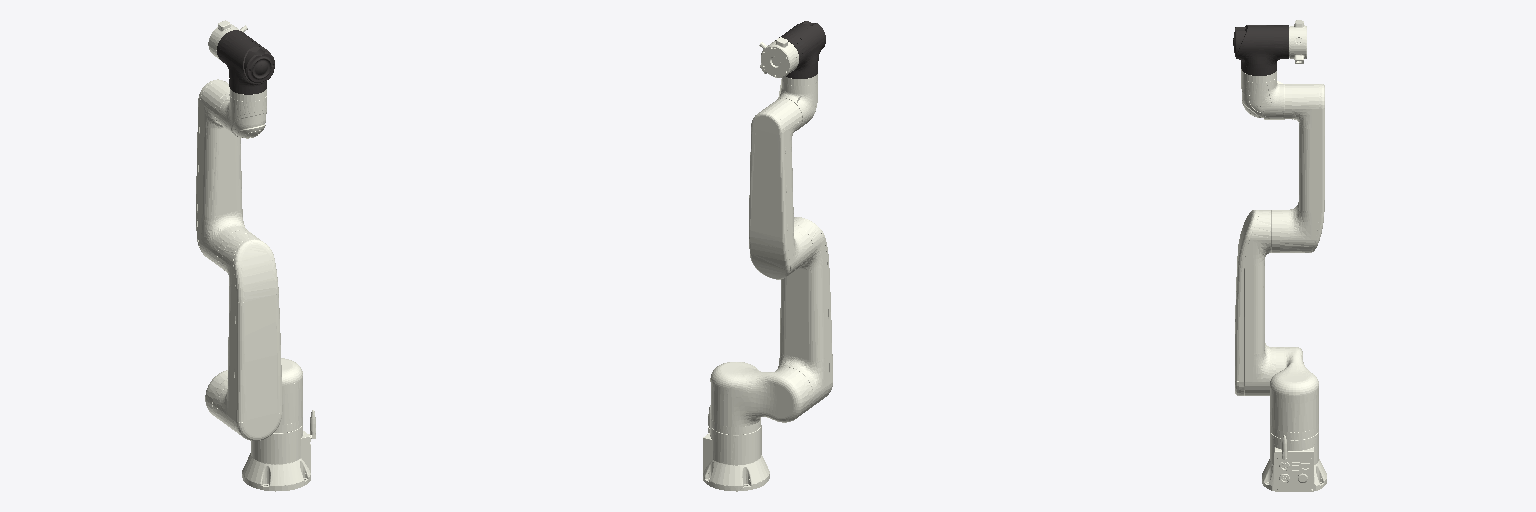
URDF robot description (rm_eco65):
<?xml version="1.0" encoding="utf-8"?>
<!-- This URDF was automatically created by SolidWorks to URDF Exporter! Originally created by Stephen Brawner (brawner@gmail.com) 
     Commit Version: 1.6.0-1-g15f4949  Build Version: 1.6.7594.29634
     For more information, please see http://wiki.ros.org/sw_urdf_exporter -->
<robot
  name="rm_eco65">
  <link
    name="baselink">
    <inertial>
      <origin
        xyz="0.00059982 -9.2932E-05 0.043301"
        rpy="0 0 0" />
      <mass
        value="0.61127" />
      <inertia
        ixx="0.00080212"
        ixy="3.0281E-06"
        ixz="-2.8747E-05"
        iyy="0.00080502"
        iyz="1.9749E-06"
        izz="0.00066167" />
    </inertial>
    <visual>
      <origin
        xyz="0 0 0"
        rpy="0 0 0" />
      <geometry>
        <mesh
          filename="package://rm_description/meshes/ECO65/baselink.STL" />
      </geometry>
      <material
        name="">
        <color
          rgba="1 1 0.9451 1" />
      </material>
    </visual>
    <collision>
      <origin
        xyz="0 0 0"
        rpy="0 0 0" />
      <geometry>
        <mesh
          filename="package://rm_description/meshes/ECO65/baselink.STL" />
      </geometry>
    </collision>
  </link>
  <link
    name="Link1">
    <inertial>
      <origin
        xyz="-0.022858 -2.0784E-06 -0.013658"
        rpy="0 0 0" />
      <mass
        value="0.74247" />
      <inertia
        ixx="0.00081398"
        ixy="-1.9024E-05"
        ixz="0.00022746"
        iyy="0.001848"
        iyz="2.0444E-06"
        izz="0.0015286" />
    </inertial>
    <visual>
      <origin
        xyz="0 0 0"
        rpy="0 0 0" />
      <geometry>
        <mesh
          filename="package://rm_description/meshes/ECO65/Link1.STL" />
      </geometry>
      <material
        name="">
        <color
          rgba="1 1 0.9451 1" />
      </material>
    </visual>
    <collision>
      <origin
        xyz="0 0 0"
        rpy="0 0 0" />
      <geometry>
        <mesh
          filename="package://rm_description/meshes/ECO65/Link1.STL" />
      </geometry>
    </collision>
  </link>
  <joint
    name="joint1"
    type="revolute">
    <origin
      xyz="0 0 0.1625"
      rpy="0 0 0" />
    <parent
      link="baselink" />
    <child
      link="Link1" />
    <axis
      xyz="0 0 1" />
    <limit
      lower="-3.1923"
      upper="3.1923"
      effort="100"
      velocity="1" />
  </joint>
  <link
    name="Link2">
    <inertial>
      <origin
        xyz="-1.6049E-06 0.10336 0.067332"
        rpy="0 0 0" />
      <mass
        value="1.3502" />
      <inertia
        ixx="0.012821"
        ixy="-7.2979E-08"
        ixz="1.1499E-08"
        iyy="0.0011237"
        iyz="-0.00033755"
        izz="0.012933" />
    </inertial>
    <visual>
      <origin
        xyz="0 0 0"
        rpy="0 0 0" />
      <geometry>
        <mesh
          filename="package://rm_description/meshes/ECO65/Link2.STL" />
      </geometry>
      <material
        name="">
        <color
          rgba="1 1 0.9451 1" />
      </material>
    </visual>
    <collision>
      <origin
        xyz="0 0 0"
        rpy="0 0 0" />
      <geometry>
        <mesh
          filename="package://rm_description/meshes/ECO65/Link2.STL" />
      </geometry>
    </collision>
  </link>
  <joint
    name="joint2"
    type="revolute">
    <origin
      xyz="-0.086 0 0"
      rpy="1.5708 0 0" />
    <parent
      link="Link1" />
    <child
      link="Link2" />
    <axis
      xyz="0 0 -1" />
    <limit
      lower="-2.61666"
      upper="2.442"
      effort="100"
      velocity="1" />
  </joint>
  <link
    name="Link3">
    <inertial>
      <origin
        xyz="0.10374 7.0495E-07 0.018599"
        rpy="0 0 0" />
      <mass
        value="1.0422" />
      <inertia
        ixx="0.00084115"
        ixy="-2.2514E-08"
        ixz="-0.00068613"
        iyy="0.0094046"
        iyz="-3.3287E-09"
        izz="0.0092482" />
    </inertial>
    <visual>
      <origin
        xyz="0 0 0"
        rpy="0 0 0" />
      <geometry>
        <mesh
          filename="package://rm_description/meshes/ECO65/Link3.STL" />
      </geometry>
      <material
        name="">
        <color
          rgba="1 1 0.9451 1" />
      </material>
    </visual>
    <collision>
      <origin
        xyz="0 0 0"
        rpy="0 0 0" />
      <geometry>
        <mesh
          filename="package://rm_description/meshes/ECO65/Link3.STL" />
      </geometry>
    </collision>
  </link>
  <joint
    name="joint3"
    type="revolute">
    <origin
      xyz="0 0.26 0"
      rpy="3.1416 0 1.5708" />
    <parent
      link="Link2" />
    <child
      link="Link3" />
    <axis
      xyz="0 0 1" />
    <limit
      lower="-2.61666"
      upper="2.61666"
      effort="100"
      velocity="1" />
  </joint>
  <link
    name="Link4">
    <inertial>
      <origin
        xyz="-0.0069819 -0.016328 0.0067416"
        rpy="0 0 0" />
      <mass
        value="0.27383" />
      <inertia
        ixx="0"
        ixy="0"
        ixz="0"
        iyy="0"
        iyz="0"
        izz="0" />
    </inertial>
    <visual>
      <origin
        xyz="0 0 0"
        rpy="0 0 0" />
      <geometry>
        <mesh
          filename="package://rm_description/meshes/ECO65/Link4.STL" />
      </geometry>
      <material
        name="">
        <color
          rgba="1 1 0.9451 1" />
      </material>
    </visual>
    <collision>
      <origin
        xyz="0 0 0"
        rpy="0 0 0" />
      <geometry>
        <mesh
          filename="package://rm_description/meshes/ECO65/Link4.STL" />
      </geometry>
    </collision>
  </link>
  <joint
    name="joint4"
    type="revolute">
    <origin
      xyz="0.24 0 -0.05888"
      rpy="0 0 1.5708" />
    <parent
      link="Link3" />
    <child
      link="Link4" />
    <axis
      xyz="0 0 1" />
    <limit
      lower="-2.61666"
      upper="2.61666"
      effort="100"
      velocity="1" />
  </joint>
  <link
    name="Link5">
    <inertial>
      <origin
        xyz="-0.00040425 0.0066328 -0.012475"
        rpy="0 0 0" />
      <mass
        value="0.27794" />
      <inertia
        ixx="0.00024751"
        ixy="-5.6849E-09"
        ixz="5.4838E-10"
        iyy="0.00017648"
        iyz="-2.8552E-05"
        izz="0.00019295" />
    </inertial>
    <visual>
      <origin
        xyz="0 0 0"
        rpy="0 0 0" />
      <geometry>
        <mesh
          filename="package://rm_description/meshes/ECO65/Link5.STL" />
      </geometry>
      <material
        name="">
        <color
          rgba="0.29804 0.28627 0.28235 1" />
      </material>
    </visual>
    <collision>
      <origin
        xyz="0 0 0"
        rpy="0 0 0" />
      <geometry>
        <mesh
          filename="package://rm_description/meshes/ECO65/Link5.STL" />
      </geometry>
    </collision>
  </link>
  <joint
    name="joint5"
    type="revolute">
    <origin
      xyz="0.00040486 -0.10983 0"
      rpy="1.5708 0 0" />
    <parent
      link="Link4" />
    <child
      link="Link5" />
    <axis
      xyz="0 0 1" />
    <limit
      lower="-2.96555"
      upper="2.96555"
      effort="100"
      velocity="1" />
  </joint>
  <link
    name="Link6">
    <inertial>
      <origin
        xyz="0.00095587 -0.0013555 -0.010297"
        rpy="0 0 0" />
      <mass
        value="0.033025" />
      <inertia
        ixx="1.2968E-05"
        ixy="-7.8692E-07"
        ixz="8.451E-08"
        iyy="1.1583E-05"
        iyz="-1.2002E-07"
        izz="2.0405E-05" />
    </inertial>
    <visual>
      <origin
        xyz="0 0 0"
        rpy="0 0 0" />
      <geometry>
        <mesh
          filename="package://rm_description/meshes/ECO65/Link6.STL" />
      </geometry>
      <material
        name="">
        <color
          rgba="1 1 0.9451 1" />
      </material>
    </visual>
    <collision>
      <origin
        xyz="0 0 0"
        rpy="0 0 0" />
      <geometry>
        <mesh
          filename="package://rm_description/meshes/ECO65/Link6.STL" />
      </geometry>
    </collision>
  </link>
  <joint
    name="joint6"
    type="revolute">
    <origin
      xyz="0 0.0795 0"
      rpy="-1.5708 0 0" />
    <parent
      link="Link5" />
    <child
      link="Link6" />
    <axis
      xyz="0 0 1" />
    <limit
      lower="-2.96555"
      upper="2.96555"
      effort="100"
      velocity="1" />
  </joint>
</robot>

--- What the picture shows (computed from the rendered views, not written in the file) ---
3 views of the same robot in one strip: view 1: azimuth 30°, elevation 25°; view 2: azimuth 150°, elevation 25°; view 3: azimuth 270°, elevation 25° (orthographic).
Robot: rm_eco65 — 7 links, 6 joints (6 revolute); root link baselink; default pose: every joint at zero.
Visible links, largest first — view 1: Link2, Link3, baselink, Link5, Link1, Link4; view 2: Link3, Link2, Link1, baselink, Link5, Link4, Link6; view 3: Link2, Link3, Link1, baselink, Link5, Link4, Link6.
Link boxes in pixels (<box>): Link2: <box>213,233,282,440</box>; Link3: <box>196,79,251,270</box>; baselink: <box>242,410,315,491</box>; Link5: <box>217,30,274,94</box>; Link1: <box>205,358,302,432</box>; Link4: <box>219,89,266,138</box>; Link3: <box>749,98,812,279</box>; Link2: <box>776,217,832,412</box>; Link1: <box>710,362,808,434</box>; baselink: <box>703,405,769,491</box>; Link5: <box>775,21,825,78</box>; Link4: <box>777,74,817,129</box>; Link6: <box>759,37,798,77</box>; Link2: <box>1235,210,1284,395</box>; Link3: <box>1271,84,1324,252</box>; Link1: <box>1270,347,1318,439</box>; baselink: <box>1262,432,1326,491</box>; Link5: <box>1233,25,1288,75</box>; Link4: <box>1241,69,1284,119</box>; Link6: <box>1289,20,1306,63</box>.
Bounding box of the posed robot: 0.1888 × 0.1585 × 0.8093 m (x, y, z).
Meshes: 7 distinct files referenced, 7 mesh visuals loaded (7 binary STL).
